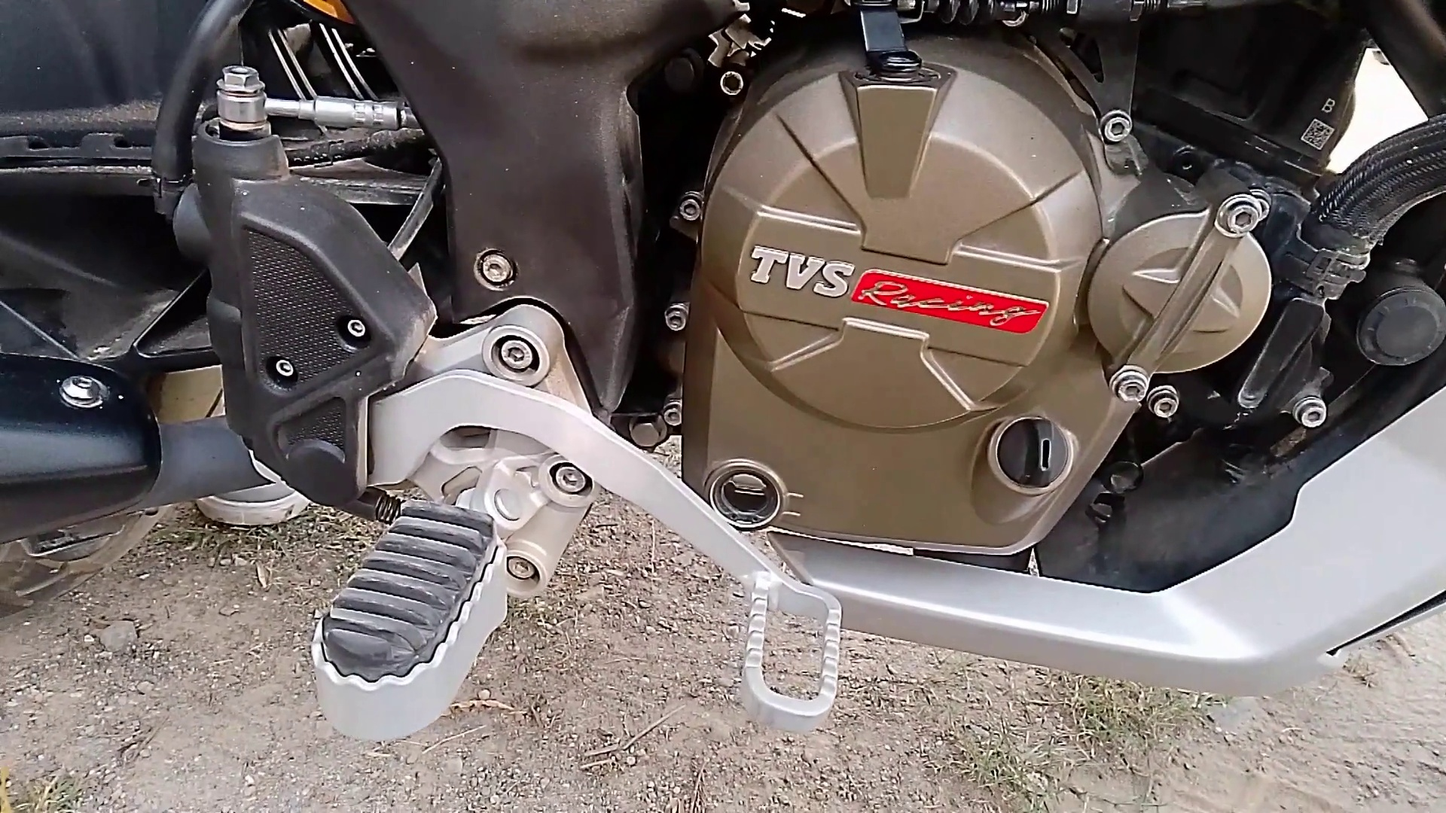engine: (651, 0, 1303, 580)
oil_cap: (979, 399, 1090, 504)
oil_marker: (699, 448, 823, 548)
